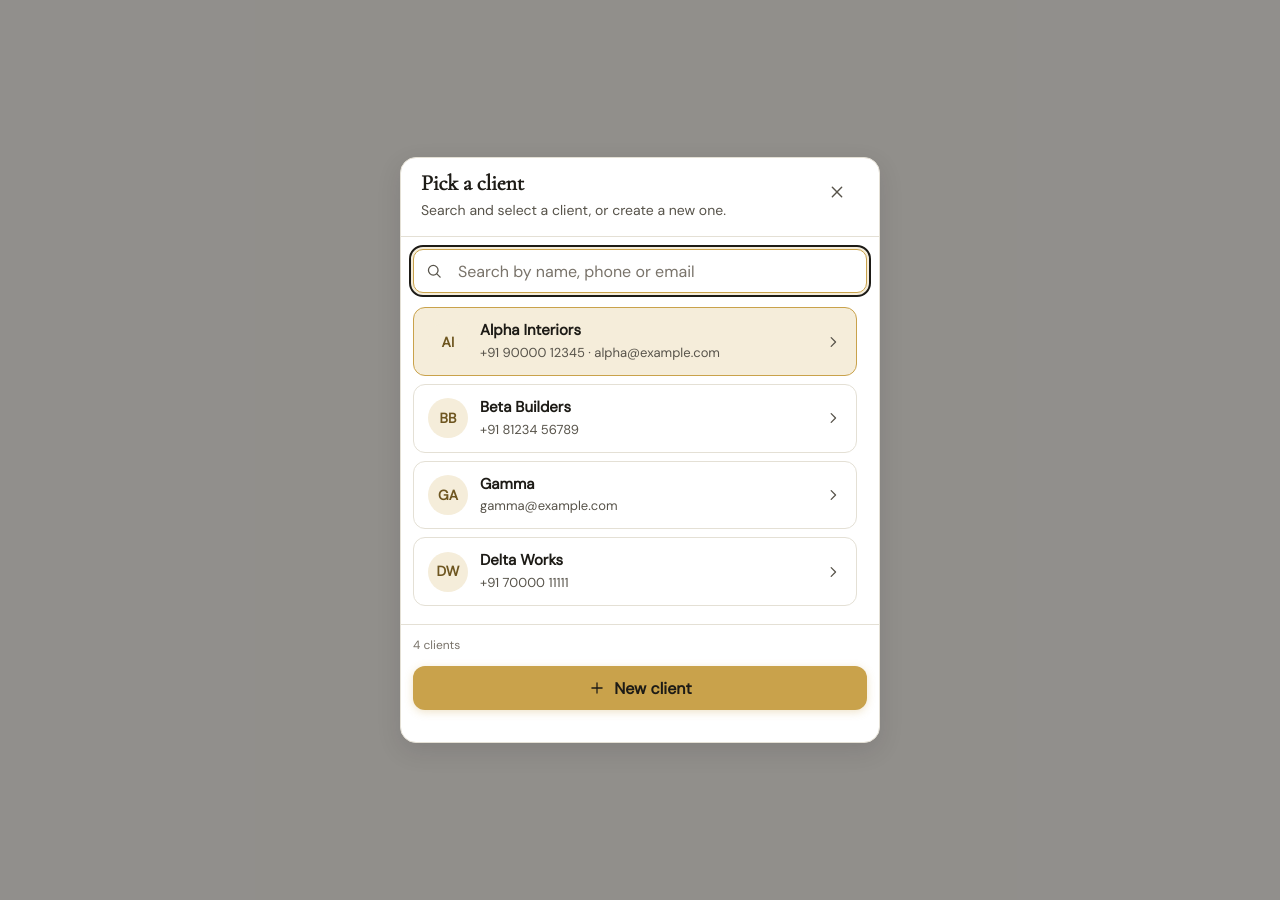
Test: Client picker — search › clears the search and returns to the full list
Expected: the option "AI Alpha Interiors +91 90000 12345 · alpha@example.com" is shown, left=413, top=308, right=857, bottom=376
Type "zzz" into the search field with placeholder "Search by name, phone or email" at (640, 272), box left=413, top=250, right=867, bottom=294
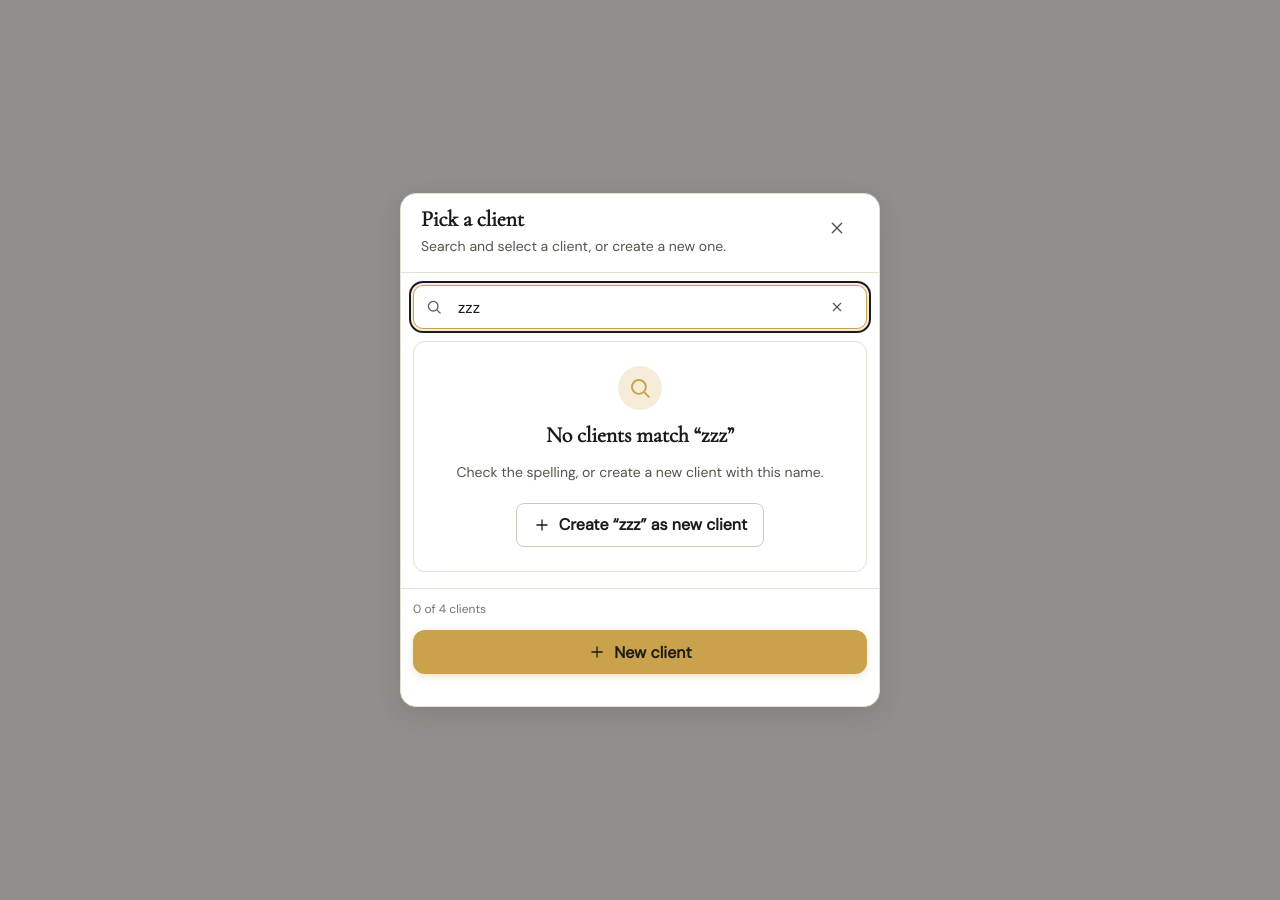
Expected: the heading "No clients match “zzz”" is shown, left=546, top=422, right=734, bottom=449
Click the button named "Clear search" at (837, 307), box left=815, top=285, right=859, bottom=329
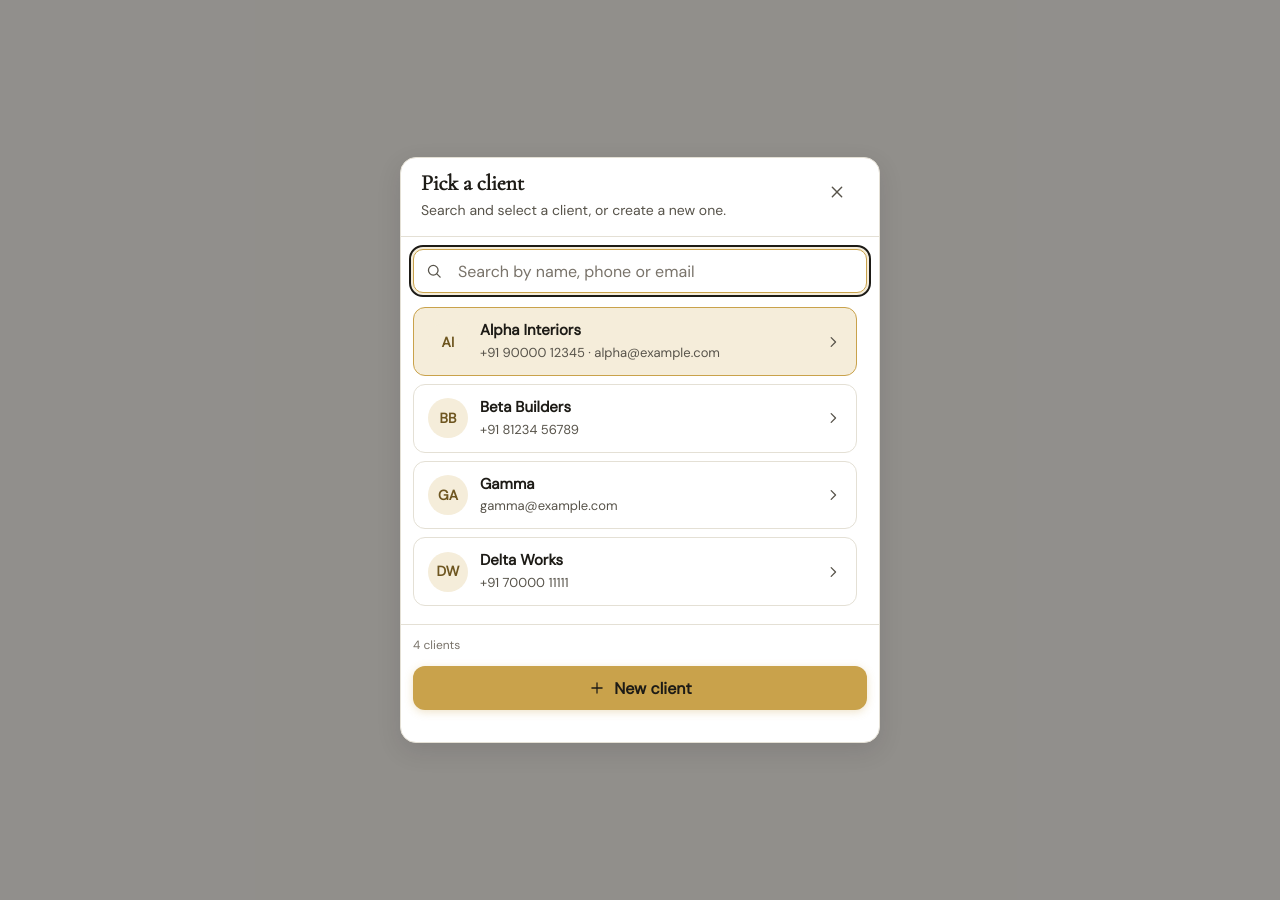
Expected: the option "AI Alpha Interiors +91 90000 12345 · alpha@example.com" is shown, left=413, top=308, right=857, bottom=376
